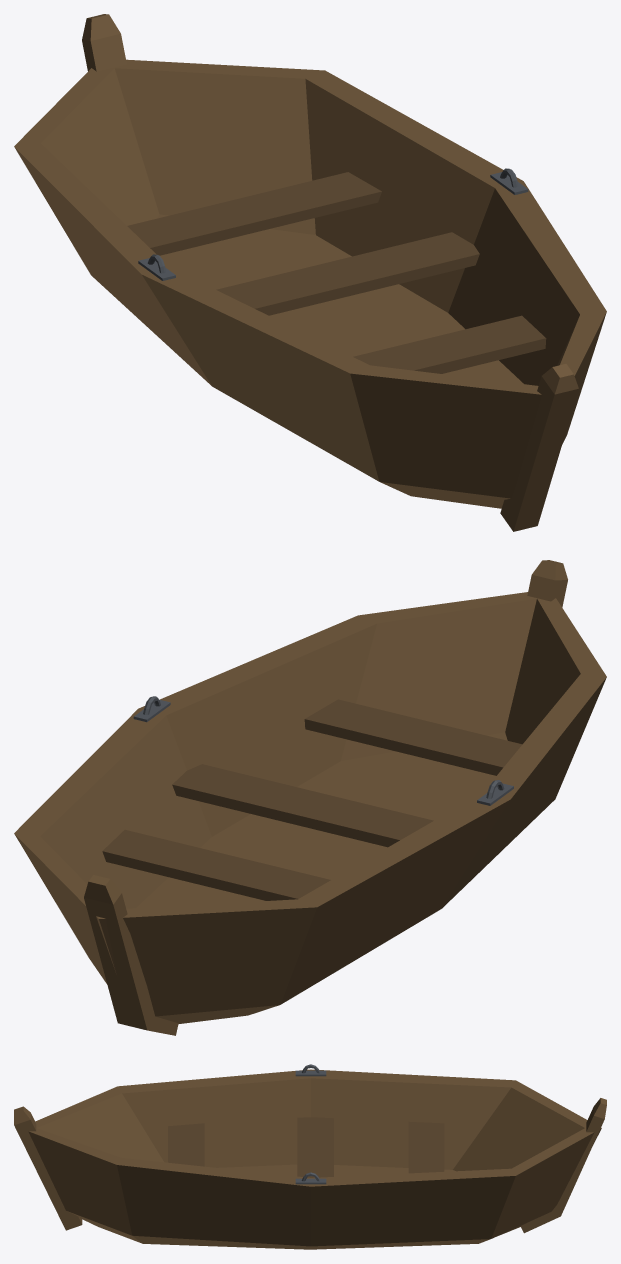
Rendered from Boat_3.fbx.
The picture shows the model from 3 angles, top to bottom: view 1: azimuth 30°, elevation 25°; view 2: azimuth 150°, elevation 25°; view 3: azimuth 270°, elevation 25°; orthographic projection. The views are drawn at different scales.
Visible parts, largest first — view 1: Boat_3; view 2: Boat_3; view 3: Boat_3.
Boxes of the visible parts, bbox=[...] form: Boat_3: bbox=[14, 14, 606, 531]; Boat_3: bbox=[14, 560, 606, 1035]; Boat_3: bbox=[14, 1064, 606, 1249].
Size of the model in its own units: 83.78 by 42.76 by 179.
